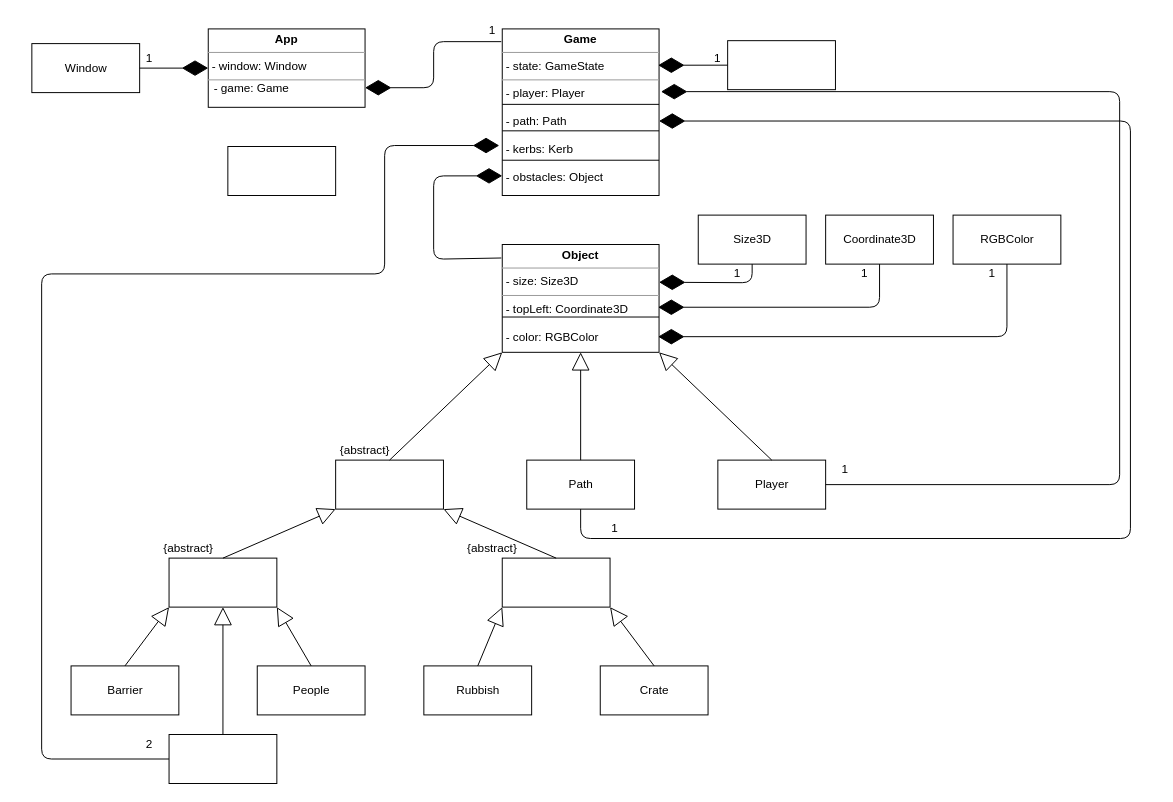
Image size: 1173x802. Some labels were removed from this diagram. The shapes that lost their labels are listed below. From the top down, each one's centre as x and y in pixels, then its label:
At (x=781, y=65): "GameState".
At (x=281, y=171): "Renderer".
At (x=389, y=484): "Obstacle".
At (x=222, y=582): "DangerousObstacle".
At (x=555, y=582): "Non DangerousObstacle".
At (x=222, y=759): "Kerb".
